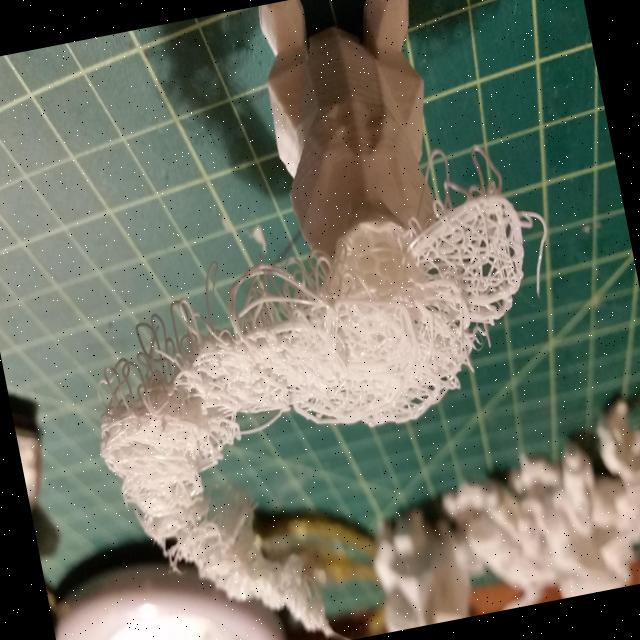spaghetti: (194, 163, 536, 421)
